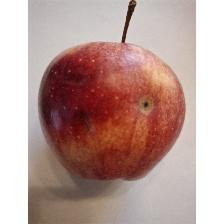Apfel: (39, 0, 187, 188)
